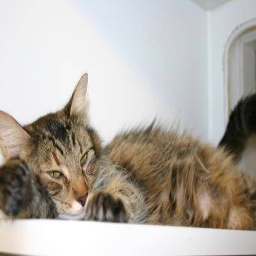cat: (1, 70, 256, 232)
